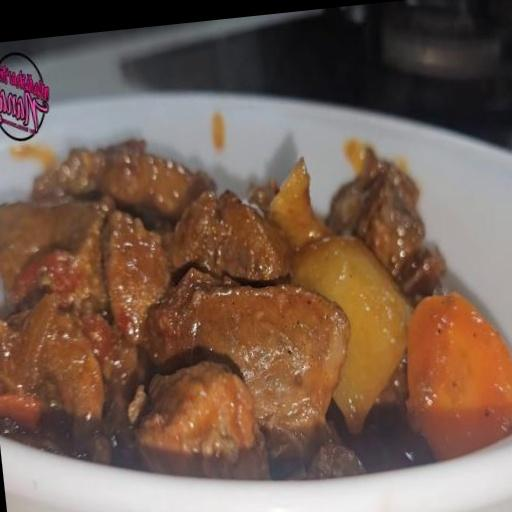pork caldereta: (0, 145, 511, 483)
